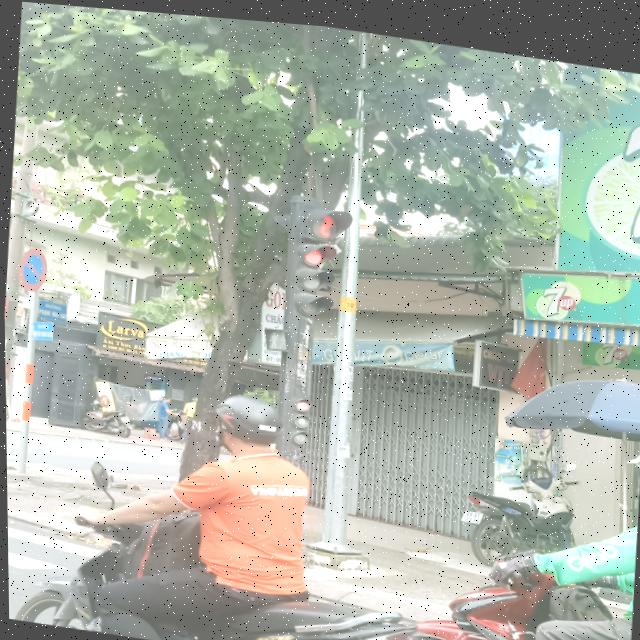Red: (283, 227, 336, 320), (278, 380, 317, 448)
